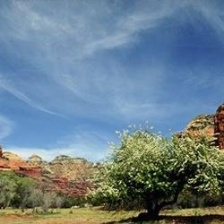neutral: (1, 5, 223, 223)
